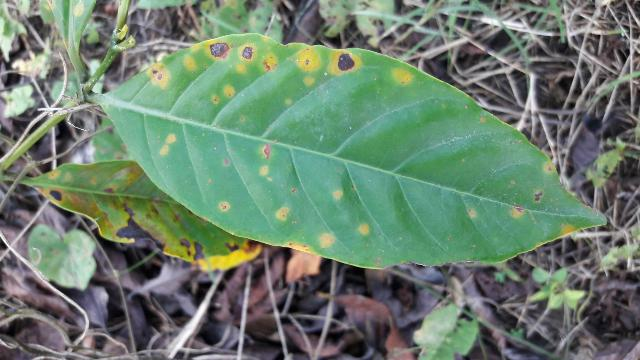rust_level_2: (105, 36, 608, 267)
